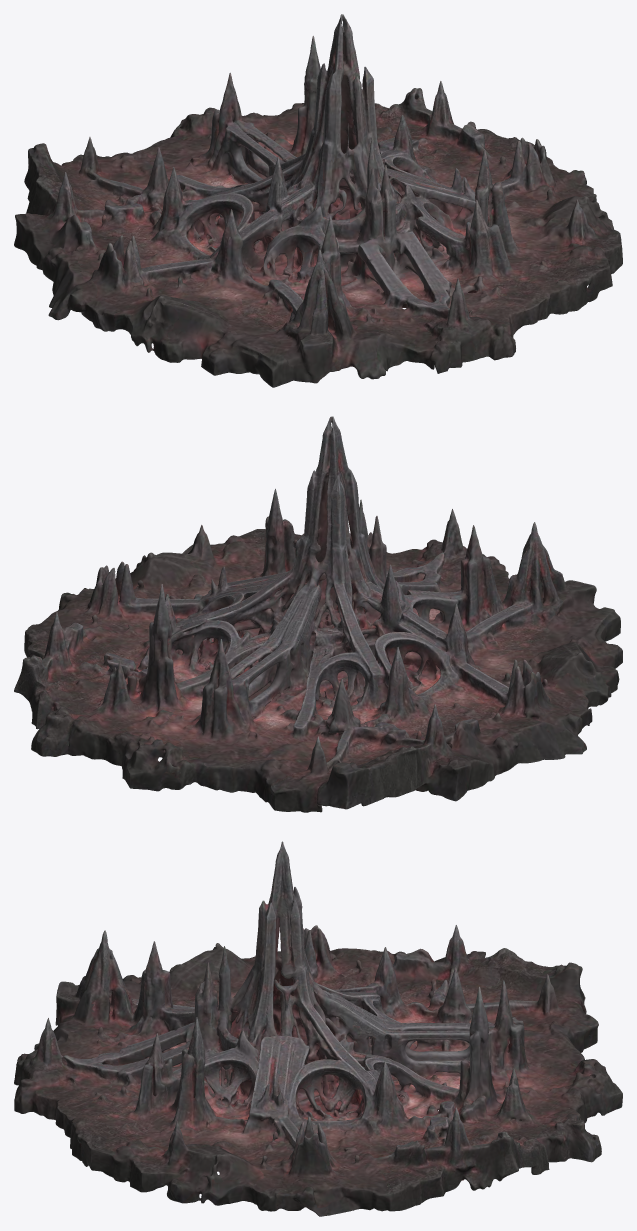
File: small.glb
3 views of the same model, one above another, from view 1: azimuth 30°, elevation 25°; view 2: azimuth 150°, elevation 25°; view 3: azimuth 270°, elevation 25° (orthographic).
Bounding box in the file's own units: 1.9 × 0.866 × 1.89.
1 material, 1 textured.
